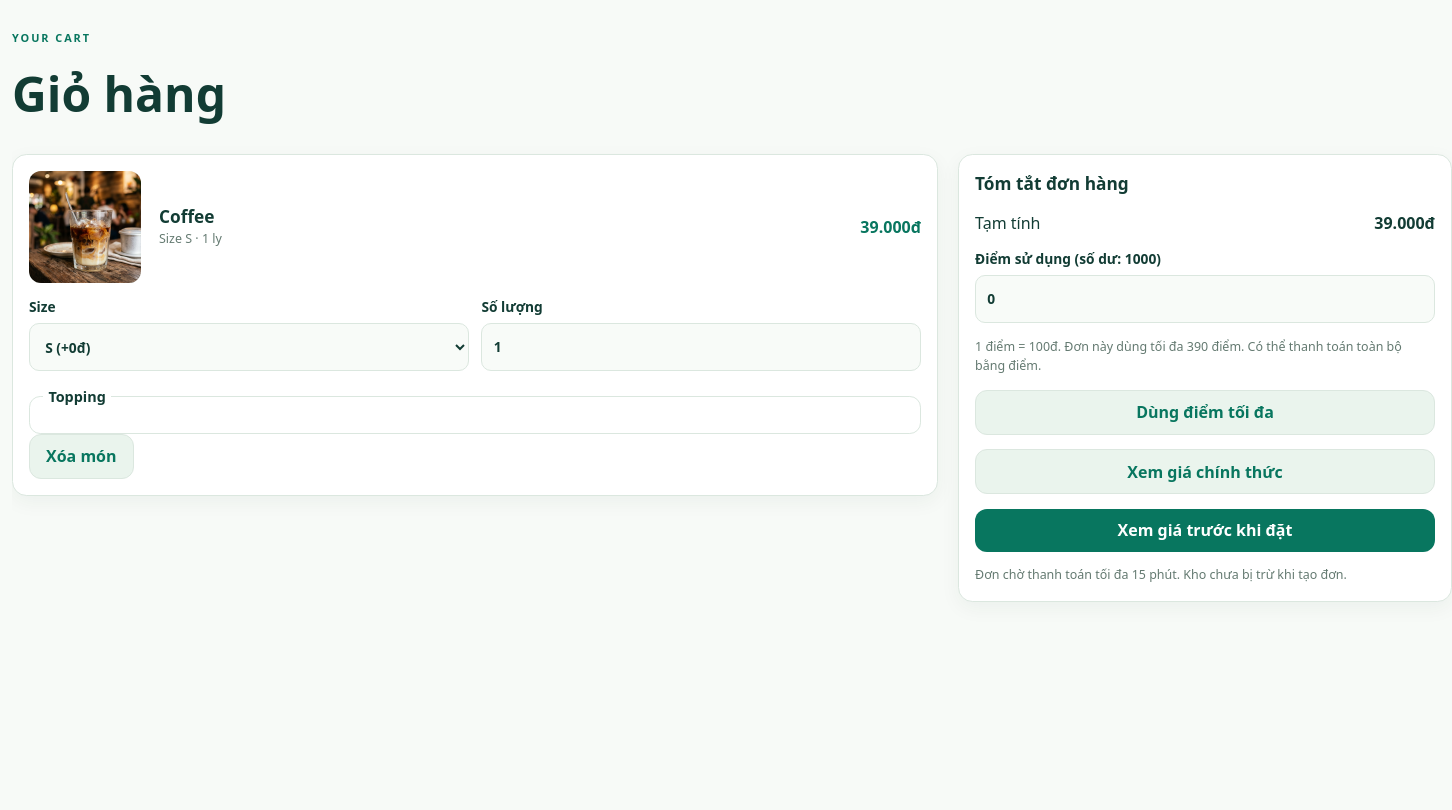
Scenario: allows full point redemption, shows quote before placing order and sends confirmed totals
Later steps or results of the test are not shown.
Expected: the link "Coffee" is shown, top-left (159, 205), bottom-right (214, 228)
Click the button "Dùng điểm tối đa" at (1205, 412), box top-left (975, 390), bottom-right (1435, 435)
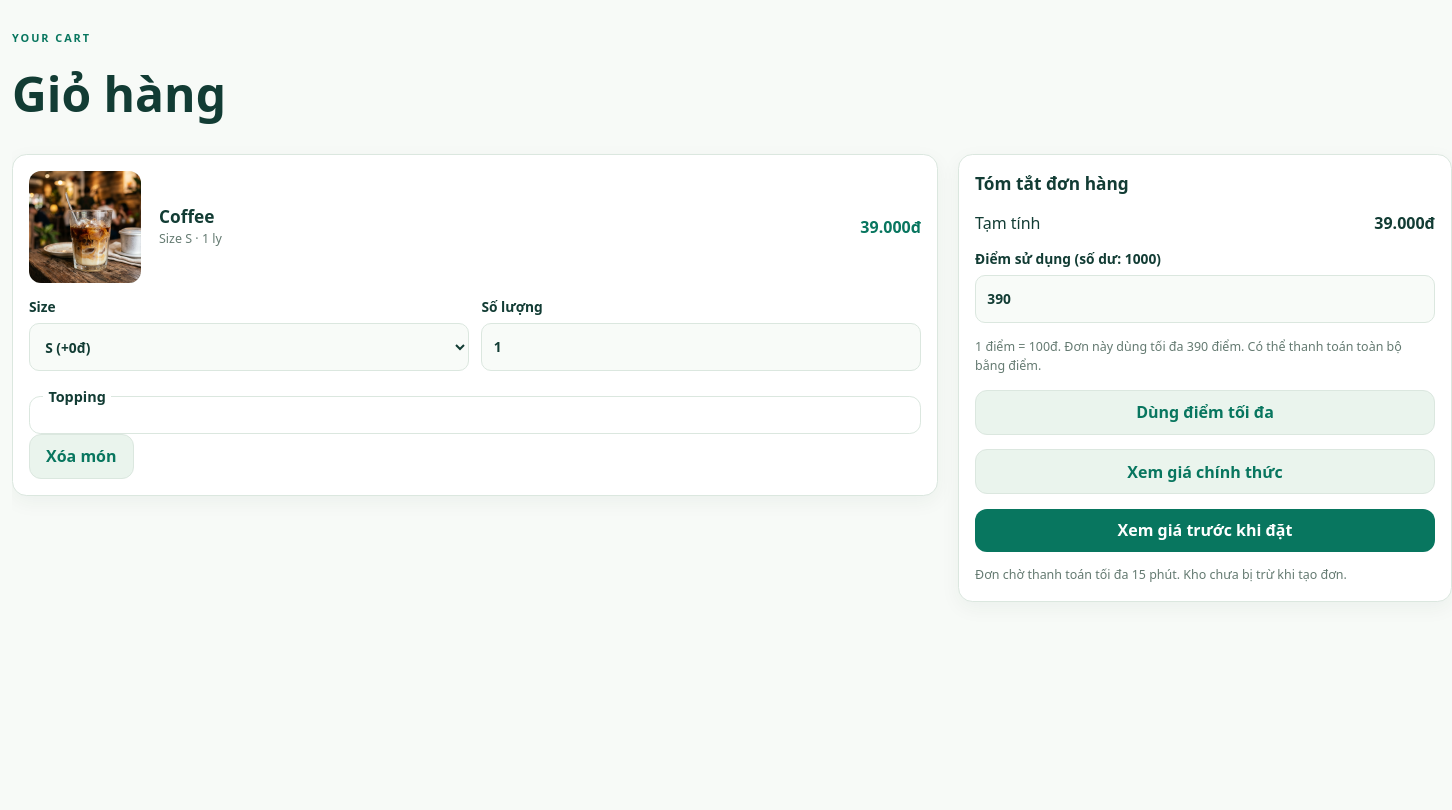
Click the button "Xem giá trước khi đặt" at (1205, 530), box top-left (975, 509), bottom-right (1435, 552)
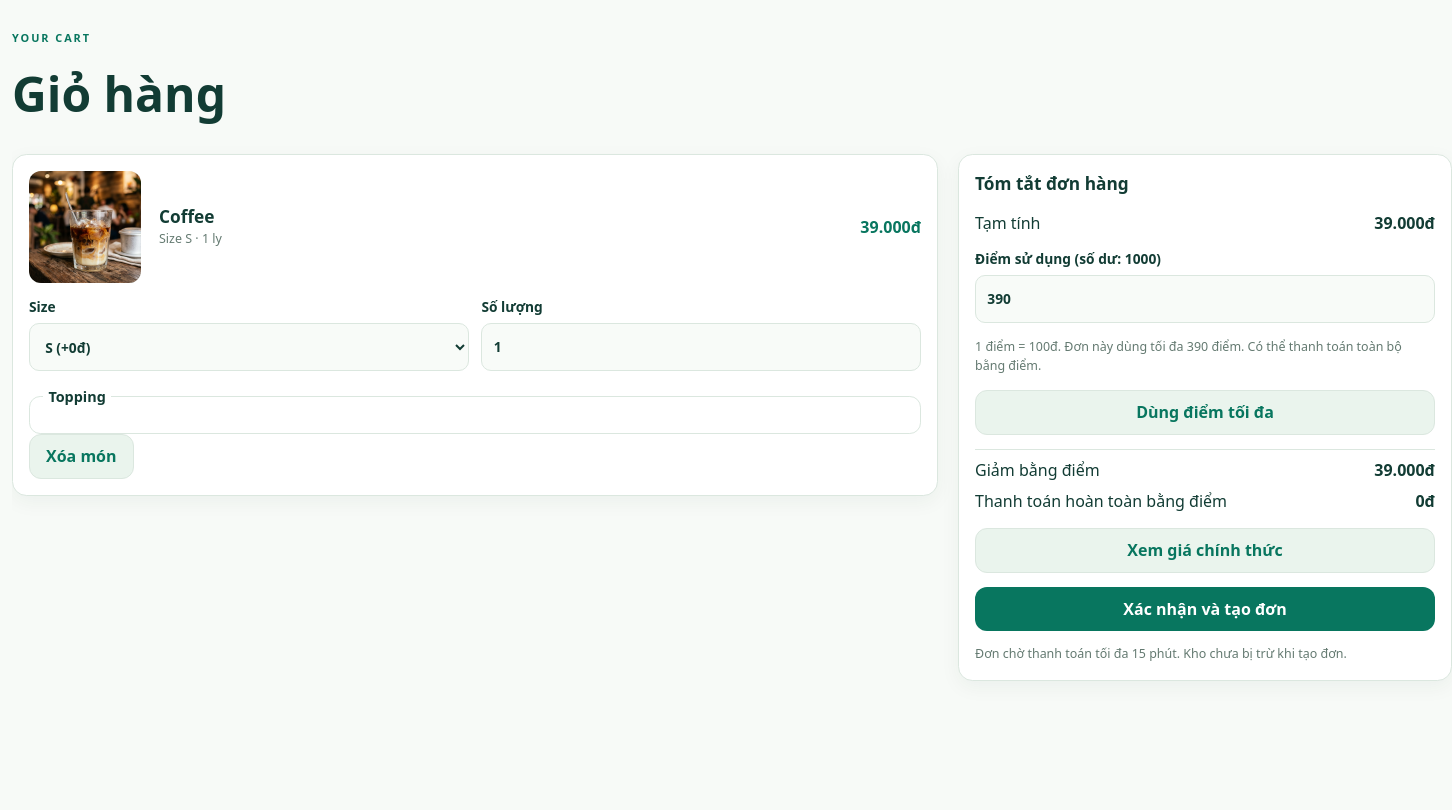
Now the text "Thanh toán hoàn toàn bằng điểm" is shown, box top-left (975, 490), bottom-right (1227, 512)
